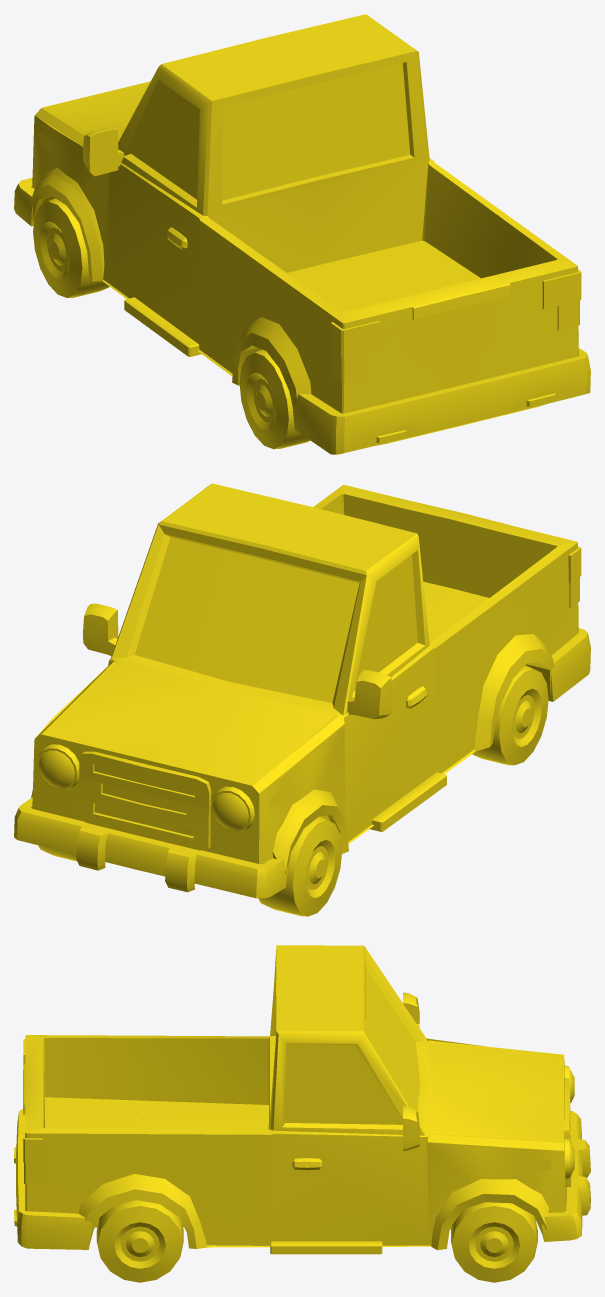
The model's file is Car.fbx.
The picture shows the model from 3 angles, top to bottom: view 1: azimuth 30°, elevation 25°; view 2: azimuth 150°, elevation 25°; view 3: azimuth 270°, elevation 25°; orthographic projection. The views are drawn at different scales.
Visible parts, largest first — view 1: Car; view 2: Car; view 3: Car.
Boxes of the visible parts, box(x1,y1,x2,y2) form: Car: box(14, 14, 590, 454); Car: box(14, 483, 590, 916); Car: box(14, 945, 590, 1282).
Size of the model in its own units: 229 by 203 by 440.
